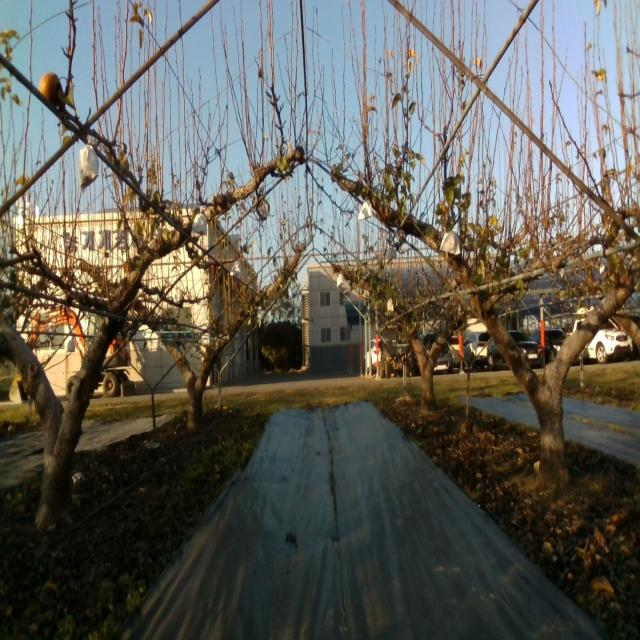pearbags: (78, 135, 100, 195), (190, 206, 207, 239), (440, 227, 460, 254), (384, 242, 398, 264), (358, 200, 372, 220), (230, 259, 242, 277)
